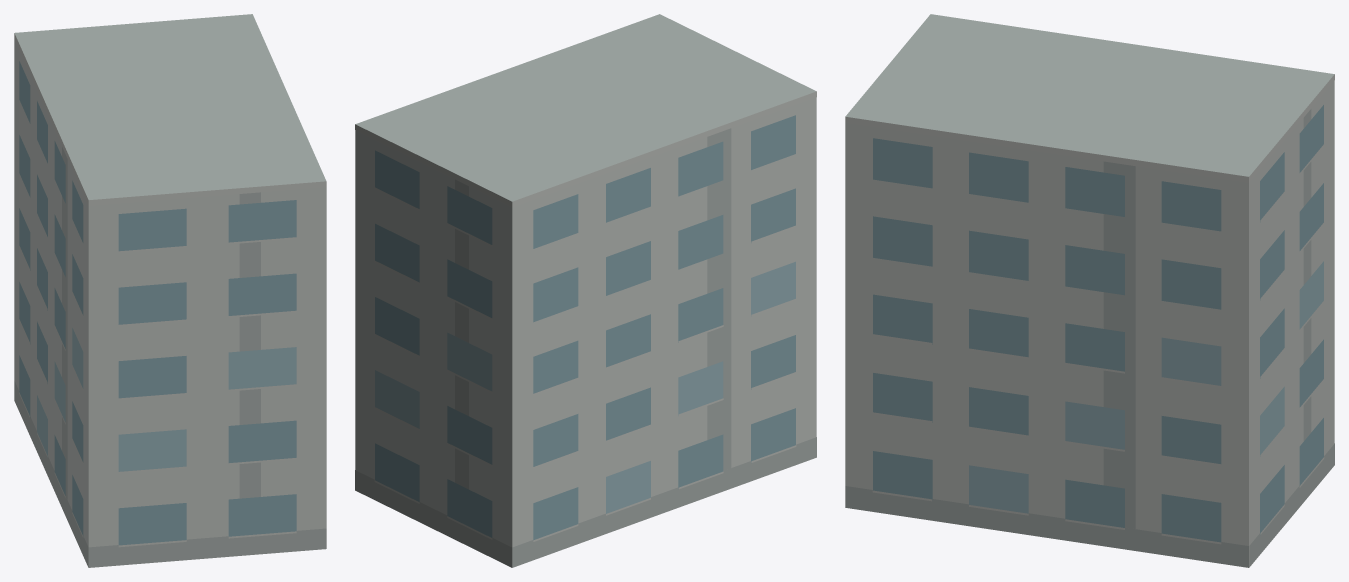
File: residential-70a3f3aa-a8aa-4050-9e23-ddccaaed9334.glb
The picture shows the model from 3 angles, left to right: view 1: azimuth 30°, elevation 25°; view 2: azimuth 150°, elevation 25°; view 3: azimuth 270°, elevation 25°; orthographic projection. The views are drawn at different scales.
Visible parts, largest first — view 1: residential-70a3f3aa-a8aa-4050-9e23-ddccaaed9334.tmp; view 2: residential-70a3f3aa-a8aa-4050-9e23-ddccaaed9334.tmp; view 3: residential-70a3f3aa-a8aa-4050-9e23-ddccaaed9334.tmp.
Part boxes in pixels (bbox=[...]): residential-70a3f3aa-a8aa-4050-9e23-ddccaaed9334.tmp: bbox=[14, 14, 326, 567]; residential-70a3f3aa-a8aa-4050-9e23-ddccaaed9334.tmp: bbox=[355, 14, 816, 567]; residential-70a3f3aa-a8aa-4050-9e23-ddccaaed9334.tmp: bbox=[845, 14, 1334, 567].
Size of the model in its own units: 13.63 by 15.25 by 17.31.
